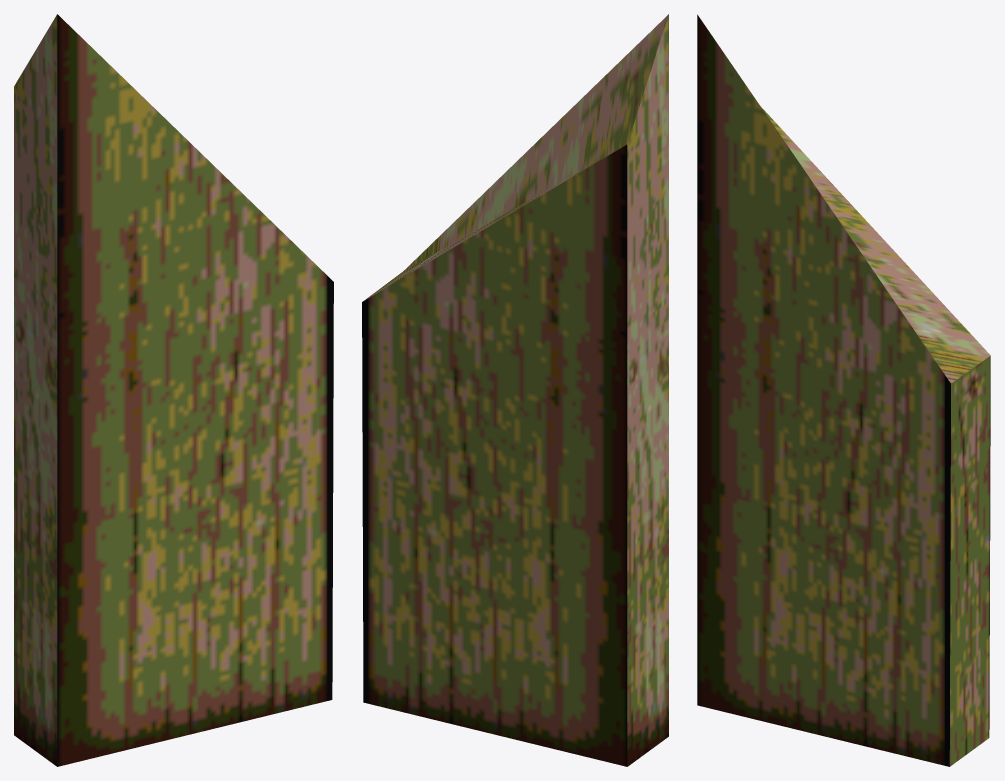
The model's file is CratePiece_4.fbx.
3 renders of one model, left to right at view 1: azimuth 30°, elevation 25°; view 2: azimuth 150°, elevation 25°; view 3: azimuth 330°, elevation 25°, orthographic. The views are drawn at different scales.
Visible parts, largest first — view 1: Cube.005; view 2: Cube.005; view 3: Cube.005.
Boxes of the visible parts, x1=… form: Cube.005: x1=14, y1=14, x2=333, y2=766; Cube.005: x1=362, y1=14, x2=668, y2=766; Cube.005: x1=697, y1=14, x2=990, y2=766.
Bounding box in the file's own units: 12.26 × 31.88 × 3.32.
1 material, 1 textured.
